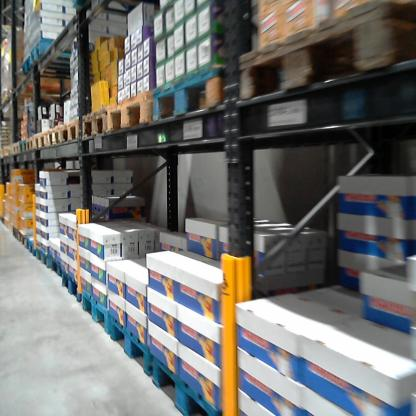pallet: (239, 2, 410, 114), (150, 63, 231, 134), (143, 349, 232, 412), (102, 310, 151, 387), (109, 78, 165, 138), (30, 36, 103, 66), (74, 283, 112, 340), (22, 49, 99, 76), (72, 0, 174, 19), (3, 84, 77, 107), (85, 104, 110, 147), (60, 108, 81, 147), (61, 275, 85, 304), (43, 252, 63, 280), (16, 228, 45, 246), (47, 122, 62, 152), (32, 131, 51, 154), (32, 239, 45, 270), (22, 236, 36, 261), (8, 138, 18, 160), (26, 137, 35, 151), (18, 138, 26, 152)
